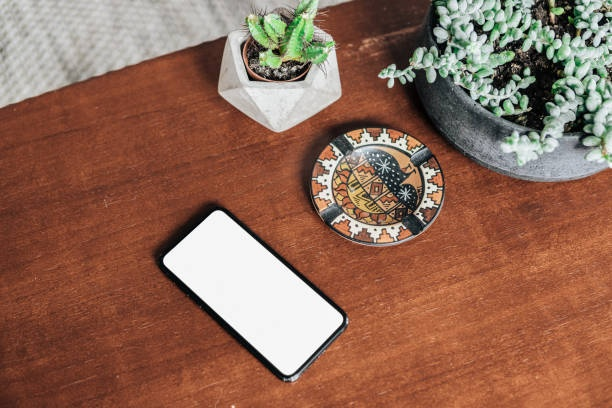phone: (156, 207, 349, 385)
